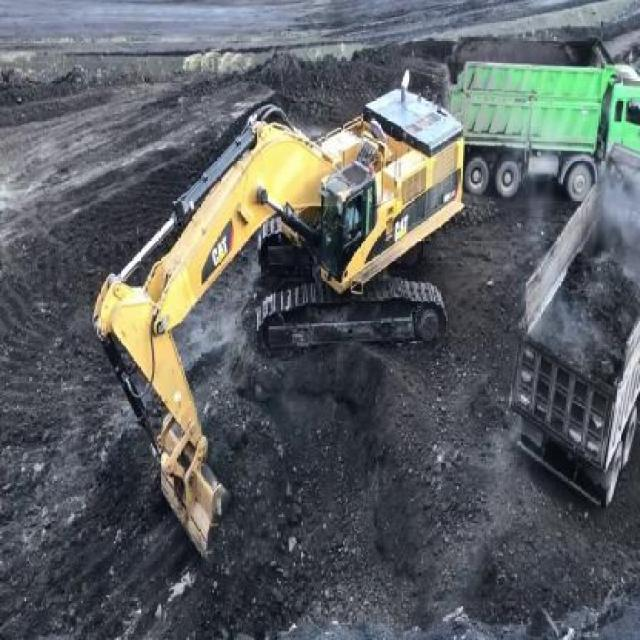Dump Truck: (511, 143, 638, 511), (438, 32, 640, 205)
Excavator: (91, 68, 466, 560)
